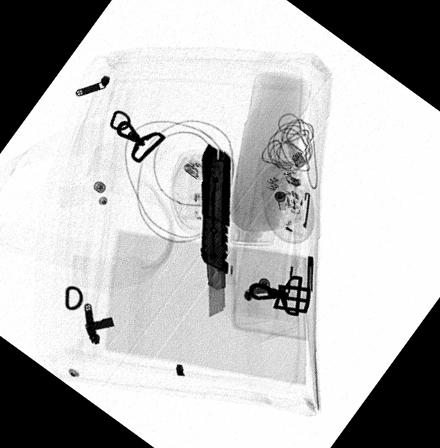Knife: (197, 142, 230, 317)
